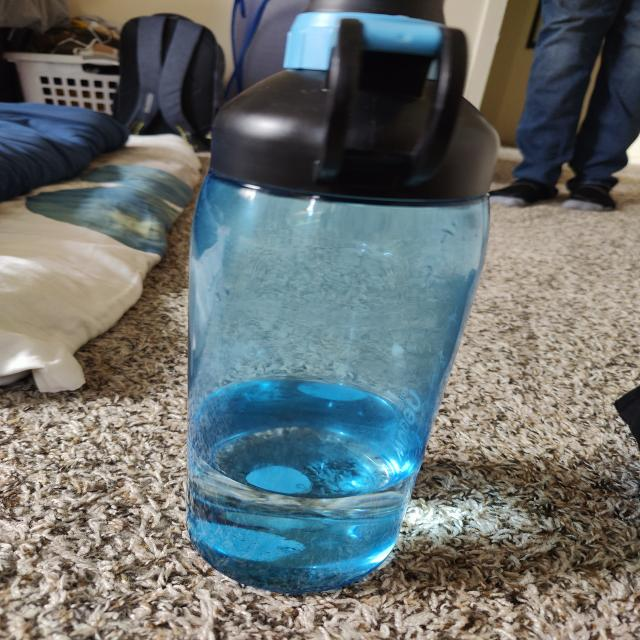bottle: (204, 4, 476, 567)
